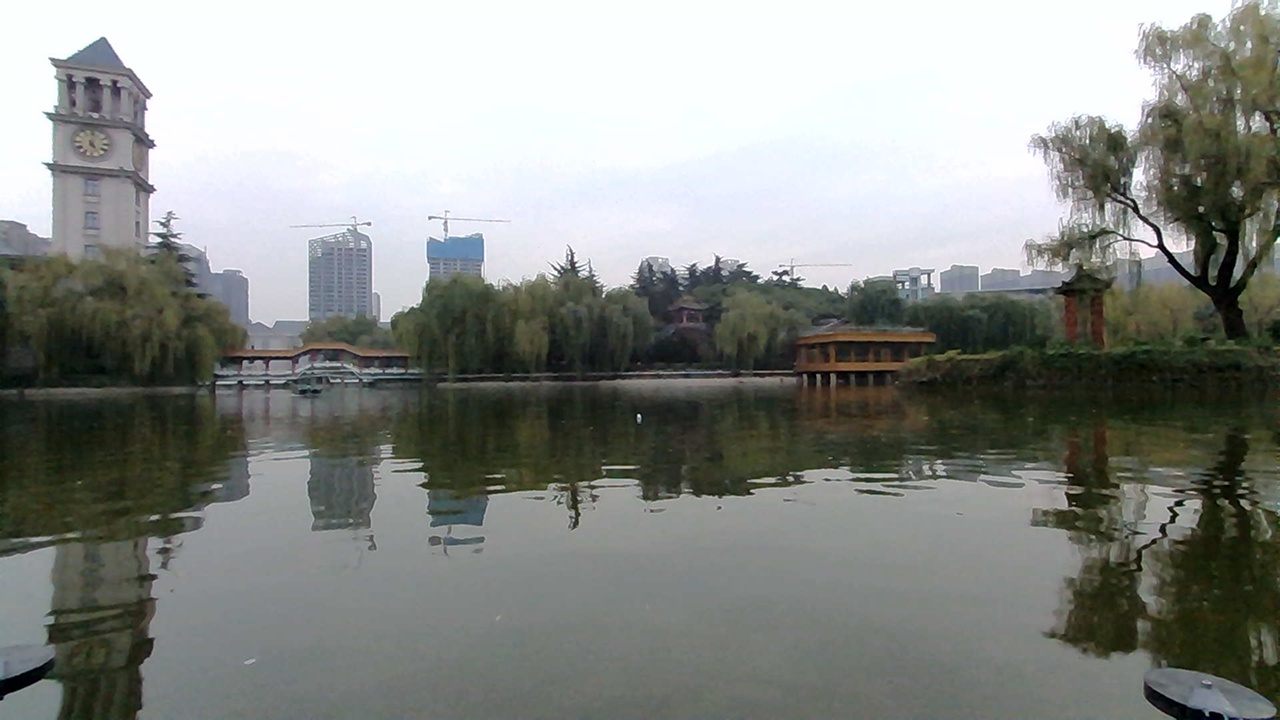bottle: (606, 409, 650, 442)
